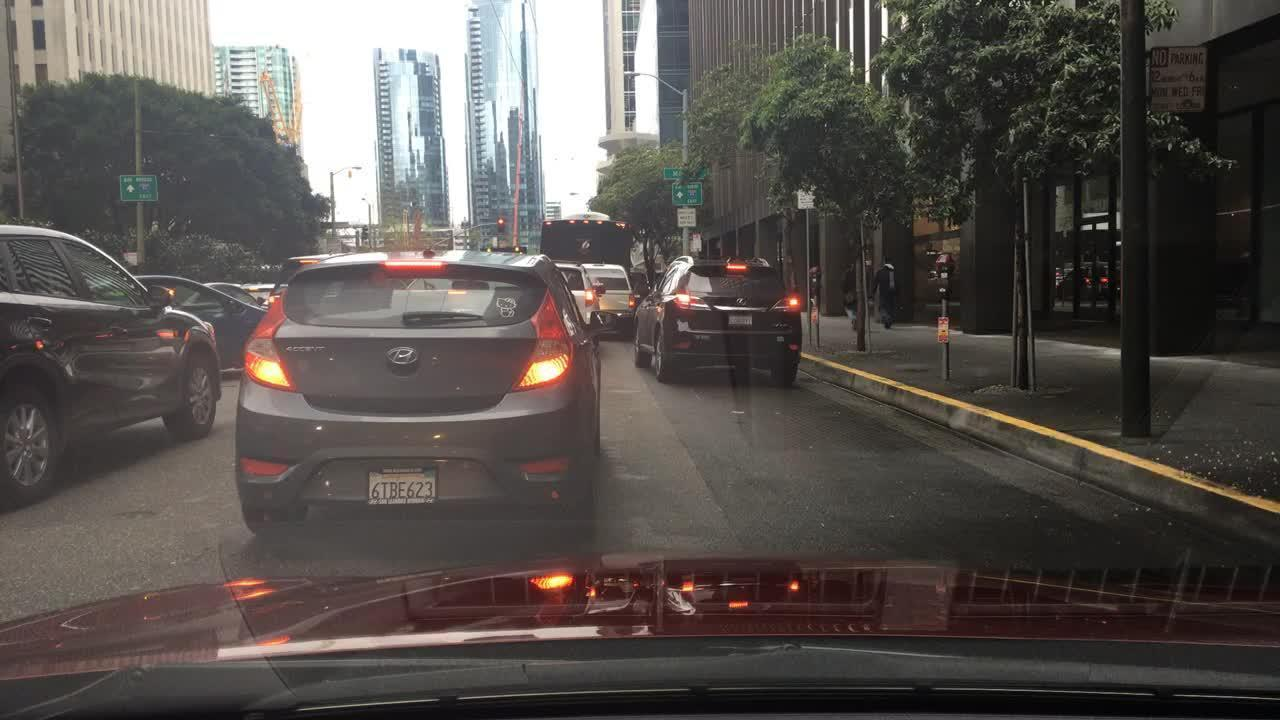Hyundai: (380, 342, 427, 382)
lexus: (734, 296, 748, 307)
